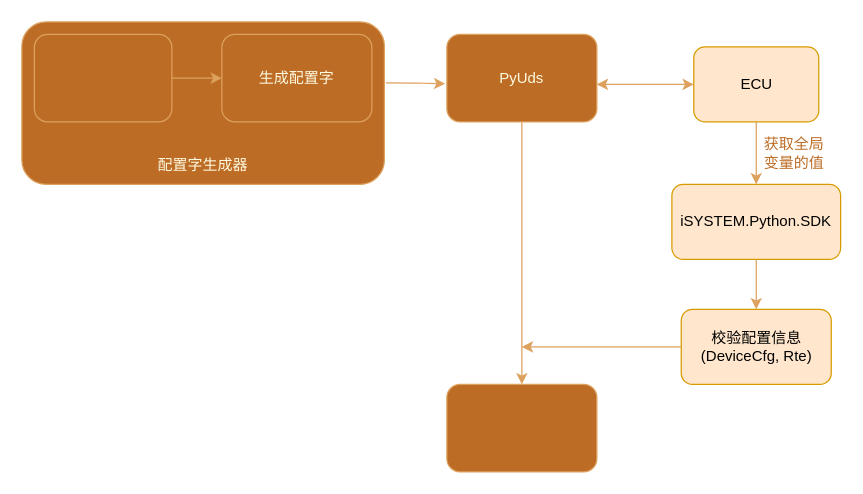
Some shapes in this 863 by 494 pixel diagram are drawn without their labels. Each missing label, with the centre of its shape:
提供配置字的Mapping信息: the point at 102,77
获取测试报告: the point at 521,427
